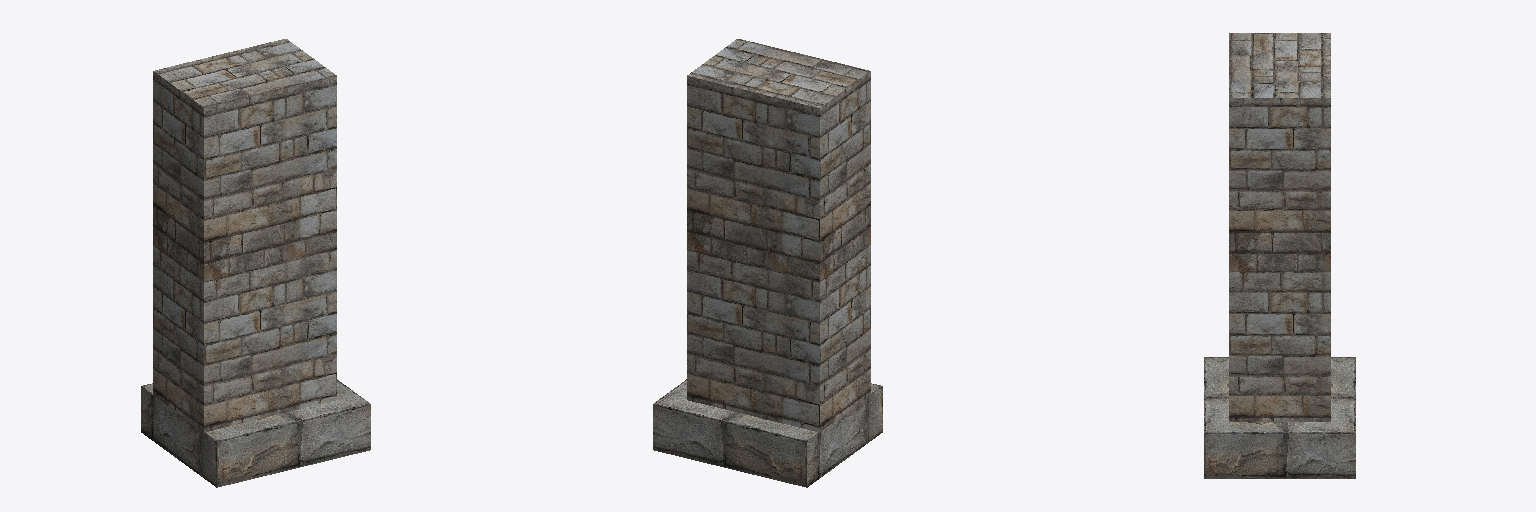
3 views of the same model, side by side, from view 1: azimuth 30°, elevation 25°; view 2: azimuth 150°, elevation 25°; view 3: azimuth 270°, elevation 25° (orthographic).
Visible parts, largest first — view 1: column_wall_end; view 2: column_wall_end; view 3: column_wall_end.
Boxes of the visible parts, <box> form: column_wall_end: <box>141,39,370,487</box>; column_wall_end: <box>653,39,882,487</box>; column_wall_end: <box>1204,33,1355,478</box>.
Bounding box in the file's own units: 19.1 × 43.86 × 16.27.
2 materials, 2 textured.